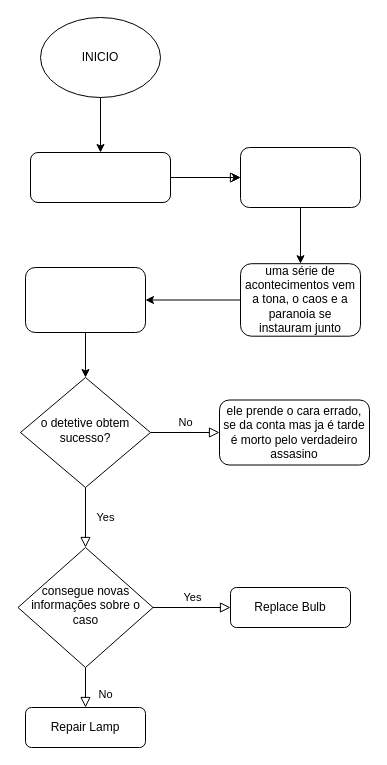
This 387x765 diagram has some shape labels left out. Each missing label, with the centre of its shape:
"na introdução é apresentado os casos de morte" goes at (x=100, y=177).
"um suspeito é interrogado pelo detetive" goes at (x=85, y=299).
"é designado um detetive para desvendar o caso e achar o suspeito" goes at (x=300, y=177).
